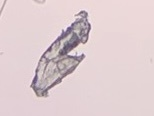microplastic: (30, 10, 91, 97)
